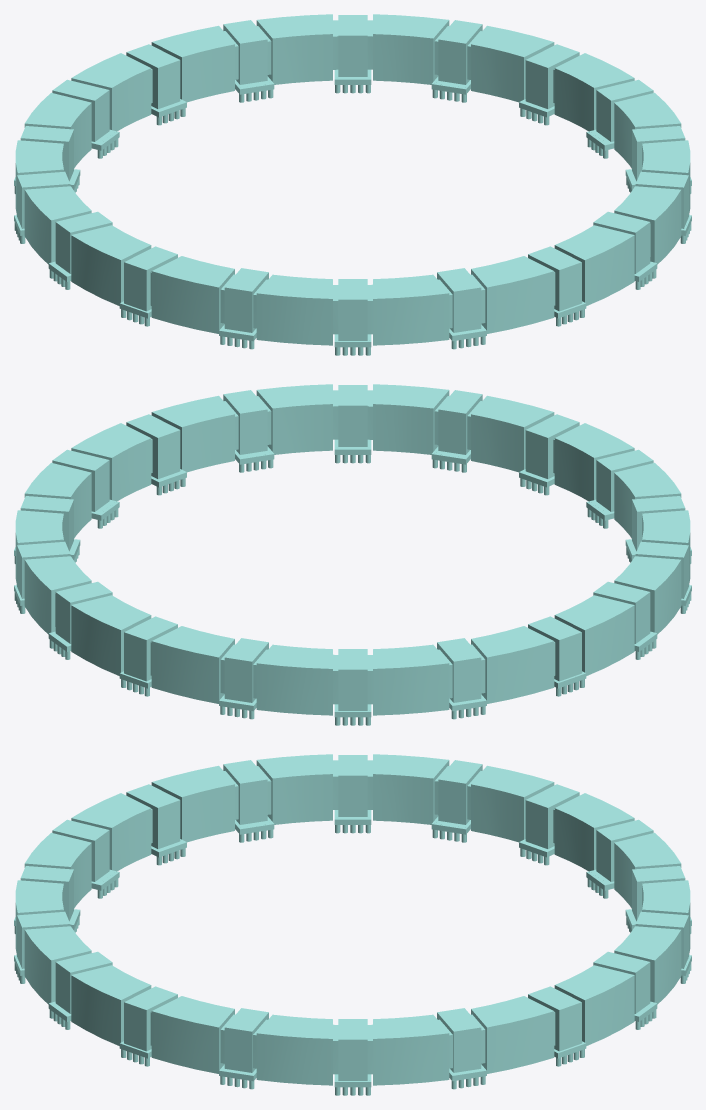
The picture shows the model from 3 angles, top to bottom: view 1: azimuth 30°, elevation 25°; view 2: azimuth 150°, elevation 25°; view 3: azimuth 270°, elevation 25°; orthographic projection.
Visible parts, largest first — view 1: ITER_MESH__pf5; view 2: ITER_MESH__pf5; view 3: ITER_MESH__pf5.
Part boxes in pixels (bbox=[...]): ITER_MESH__pf5: bbox=[14, 14, 691, 355]; ITER_MESH__pf5: bbox=[14, 384, 691, 725]; ITER_MESH__pf5: bbox=[14, 754, 691, 1095].
Size of the model in its own units: 18.56 by 1.66 by 18.45.
